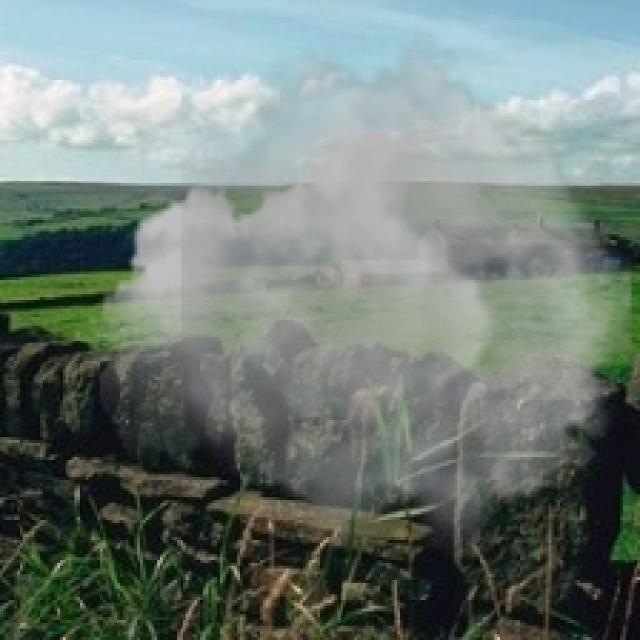smoke: (89, 31, 632, 560)
